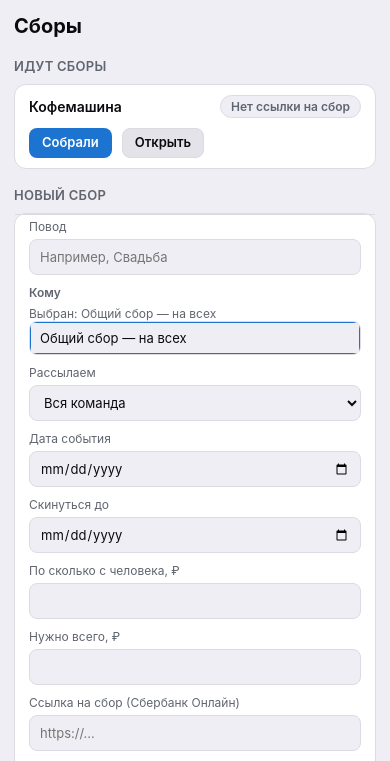
Test case: «Рассылаем» у сборов (консоль) › разосланный сбор всей команде — «Рассылали: вся команда»
The image size is (390, 761).
Click the button "Открыть".
click(163, 143)  # box [122,128,204,158]
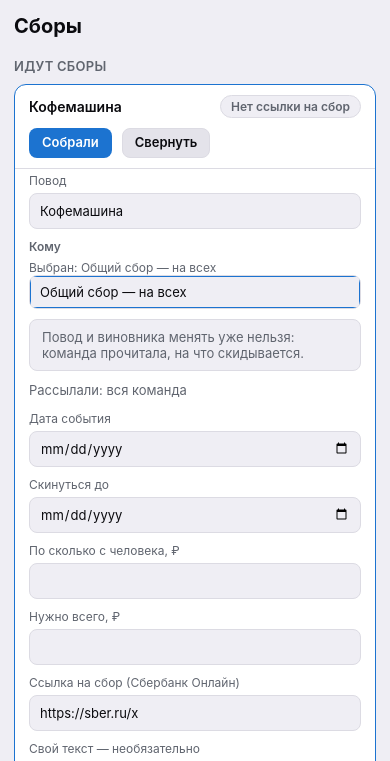
Expected: the text "Рассылали: вся команда" is shown, [29,382,187,398]
